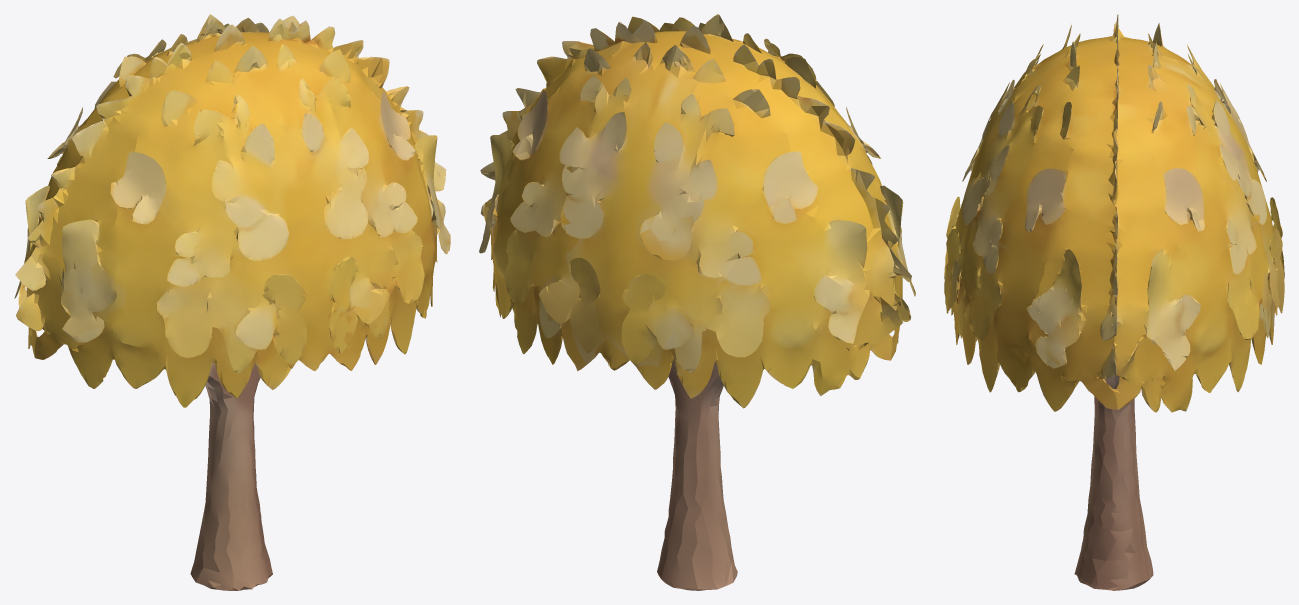
The model's file is tree_gold.glb.
The picture shows the model from 3 angles, left to right: view 1: azimuth 30°, elevation 25°; view 2: azimuth 150°, elevation 25°; view 3: azimuth 270°, elevation 25°; orthographic projection. The views are drawn at different scales.
Parts seen in each view (by area): view 1: tree_gold; view 2: tree_gold; view 3: tree_gold.
Boxes of the visible parts, <box> form: tree_gold: <box>14,14,450,590</box>; tree_gold: <box>479,14,915,590</box>; tree_gold: <box>944,14,1284,590</box>.
Size of the model in its own units: 0.82 by 1 by 0.5719.
Materials: 1 (1 with a texture image).
